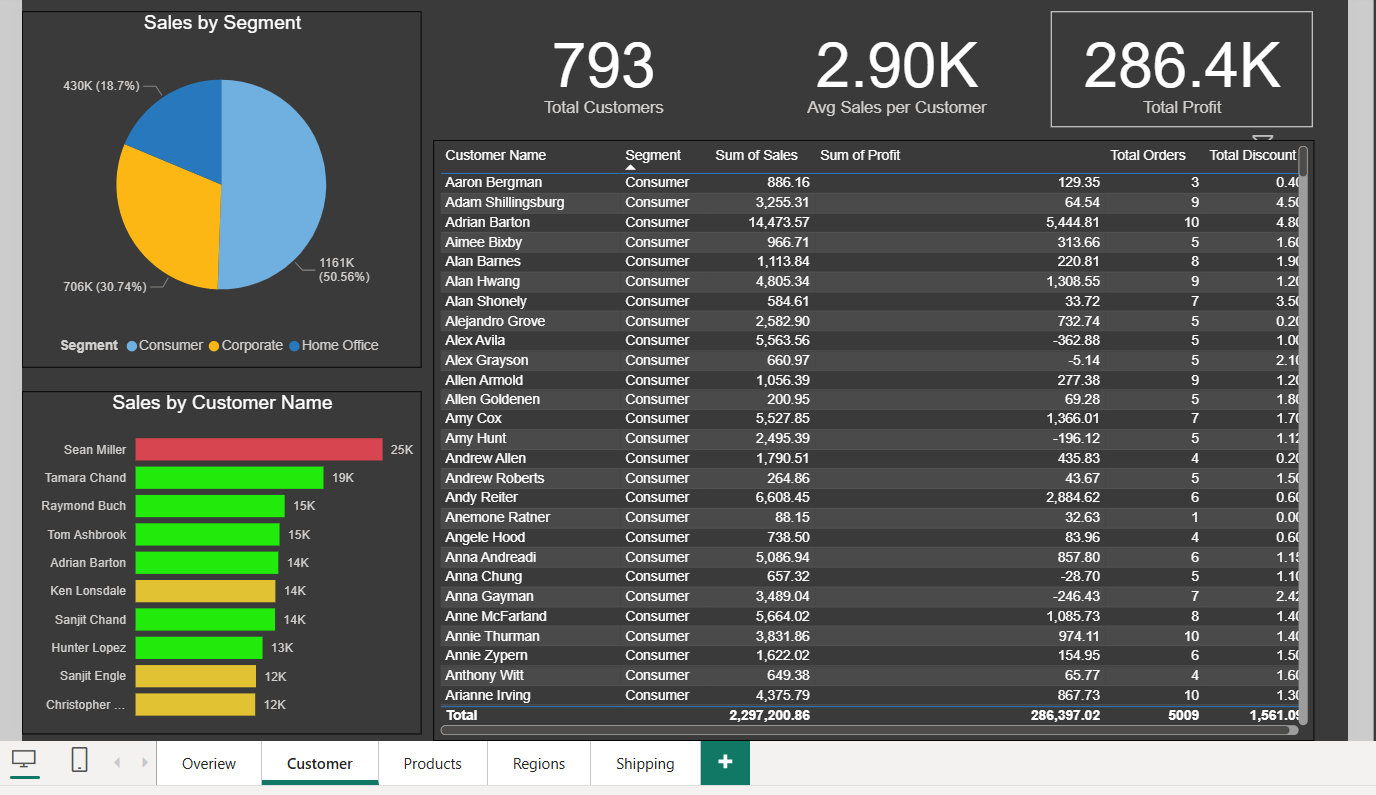

What the dashboard file says about the page in this screenshot:
{"tool":"powerbi","page":{"name":"Customer","canvas":[1280,720],"ordinal":1},"visuals":[{"type":"card","fields":{"Values":["Orders.Total Customers"]},"box":[444.6,16.2,232.9,112.1],"z":0},{"type":"card","fields":{"Values":["Orders.Avg Sales per Customer"]},"box":[724.8,16.2,239.1,112.1],"z":1000},{"type":"pieChart","title":"Sales by Segment","fields":{"Category":["Orders.Segment"],"Y":["Orders.Total Sales"]},"box":[0,15.8,385.5,343.8],"z":2000},{"type":"barChart","title":" Sales by Customer Name","fields":{"Category":["Orders.Customer Name"],"Y":["Orders.Total Sales"]},"box":[0,382.6,385.5,330.9],"z":3000},{"type":"card","fields":{"Values":["Orders.Total Profit"]},"box":[992.6,16.2,254.1,112.1],"z":4000},{"type":"tableEx","fields":{"Values":["Orders.Customer Name","Orders.Segment","Orders.Sales","Orders.Profit","Orders.Total Orders","Orders.Total Discount"]},"box":[396.9,139.9,850.5,580.3],"z":5000}]}

Visuals, with their boxes on the page's 1280x720 design canvas (x1, y1, x2, y2). These are canvas units, not pixel positions in the 1376x795 screenshot, which may show the page scaled, cropped or inside an application window:
card - Orders.Total Customers: x1=445 y1=16 x2=678 y2=128
card - Orders.Avg Sales per Customer: x1=725 y1=16 x2=964 y2=128
"Sales by Segment" pieChart: x1=0 y1=16 x2=386 y2=360
" Sales by Customer Name" barChart: x1=0 y1=383 x2=386 y2=714
card - Orders.Total Profit: x1=993 y1=16 x2=1247 y2=128
tableEx - Orders.Customer Name x Orders.Segment: x1=397 y1=140 x2=1247 y2=720
